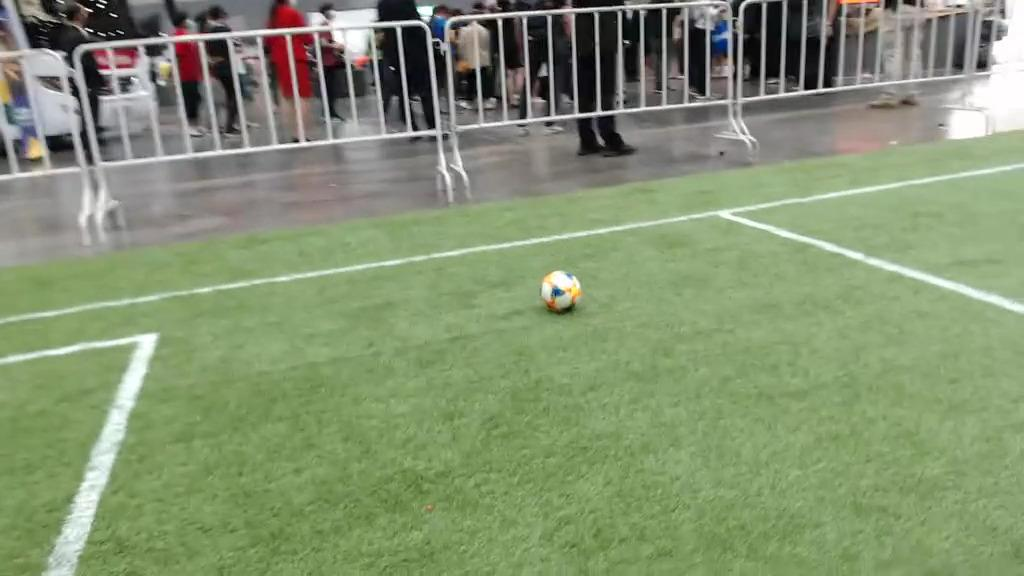ball: (543, 270, 580, 313)
